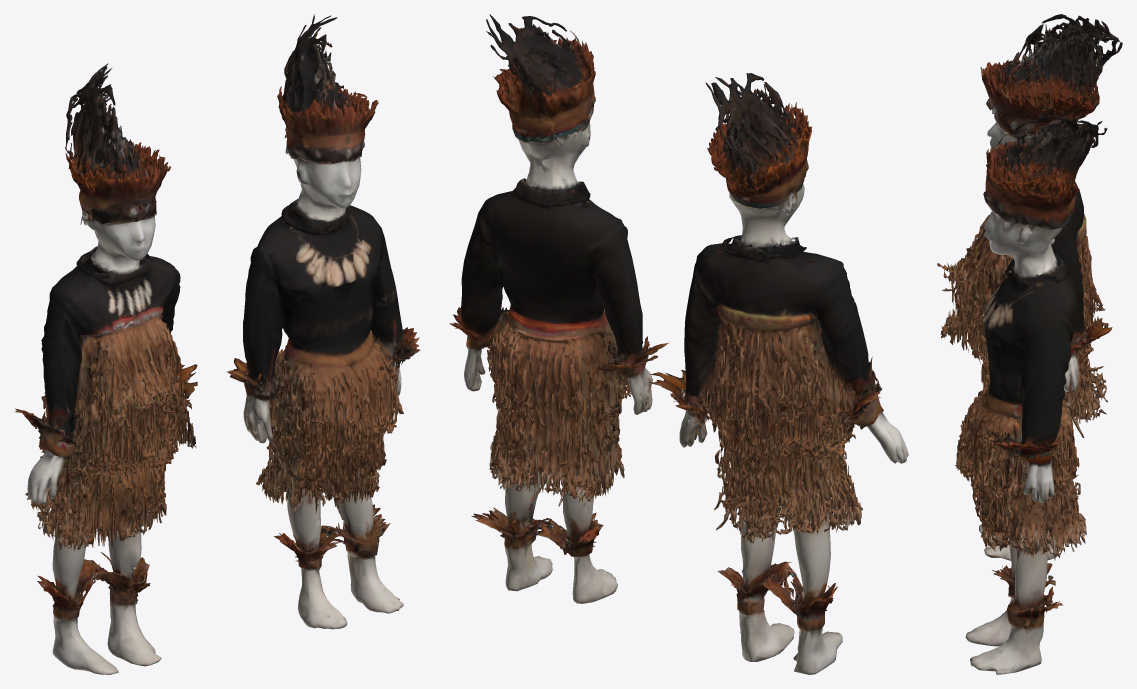
The model's file is bajuadatpapua.glb.
3 renders of one model, left to right at view 1: azimuth 30°, elevation 25°; view 2: azimuth 150°, elevation 25°; view 3: azimuth 270°, elevation 25°, orthographic. The views are drawn at different scales.
Parts seen in each view (by area): view 1: Mesh_0; view 2: Mesh_0; view 3: Mesh_0.
Boxes of the visible parts, x1,y1,x2,y2 form: Mesh_0: [14, 14, 420, 674]; Mesh_0: [449, 14, 908, 674]; Mesh_0: [937, 14, 1122, 674].
Size of the model in its own units: 1.69 by 2.25 by 0.6941.
Materials: 1 (1 with a texture image).
